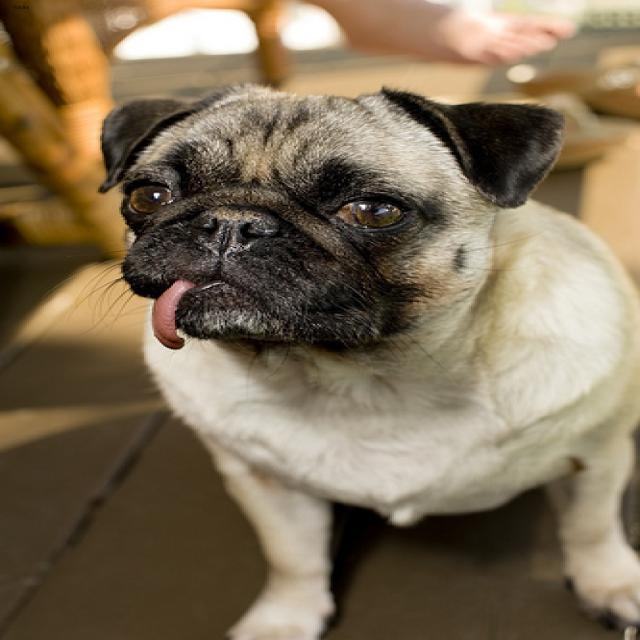dog-pug: (62, 72, 636, 637)
